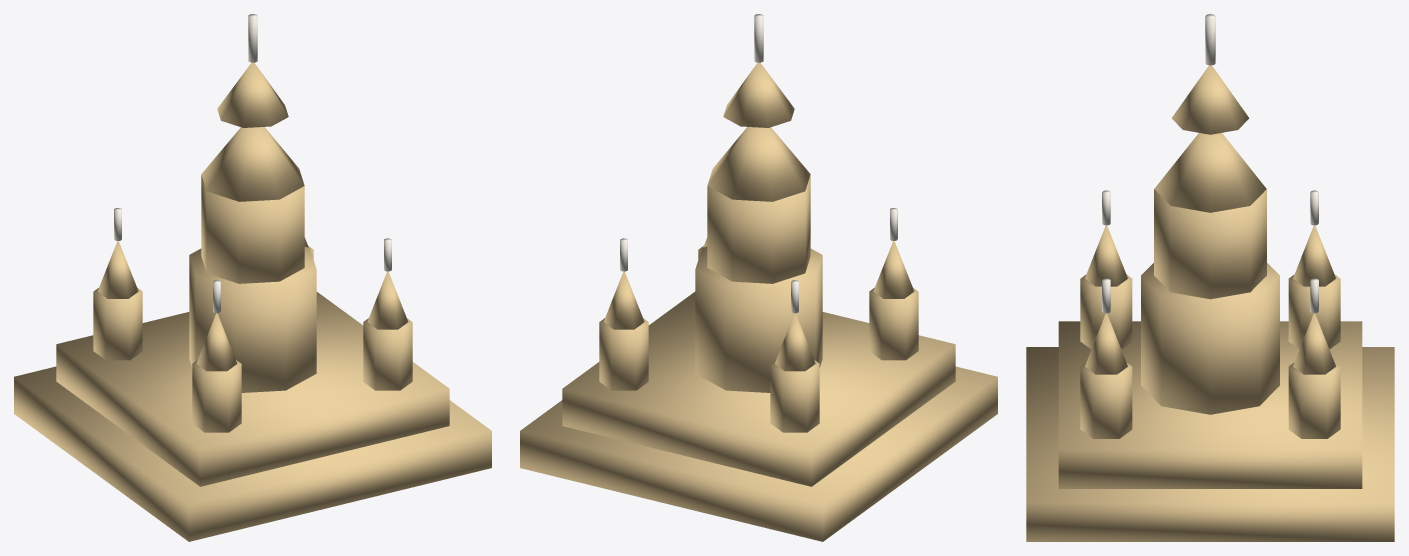
The model's file is wat_chaiwatthanaram.glb.
The picture shows the model from 3 angles, left to right: view 1: azimuth 30°, elevation 25°; view 2: azimuth 150°, elevation 25°; view 3: azimuth 270°, elevation 25°; orthographic projection. The views are drawn at different scales.
Parts seen in each view (by area): view 1: platform2, platform1, prang_base, prang_mid, prang_top1, chedi_b_2, chedi_b_0, chedi_b_1, prang_top2, chedi_t_0, chedi_t_1, chedi_t_2; view 2: platform2, platform1, prang_base, prang_mid, prang_top1, chedi_b_0, chedi_b_2, chedi_b_3, prang_top2, chedi_t_2, chedi_t_3, chedi_t_0; view 3: platform1, platform2, prang_base, prang_mid, prang_top1, chedi_b_1, chedi_b_3, prang_top2, chedi_b_0, chedi_b_2, chedi_t_1, chedi_t_3 (+3 smaller).
Part boxes in pixels (<box>): platform2: <box>56,292,449,486</box>; platform1: <box>14,366,491,541</box>; prang_base: <box>189,246,316,392</box>; prang_mid: <box>201,175,304,283</box>; prang_top1: <box>201,127,304,201</box>; chedi_b_2: <box>93,287,142,360</box>; chedi_b_0: <box>192,360,241,432</box>; chedi_b_1: <box>363,318,412,390</box>; prang_top2: <box>217,62,288,127</box>; chedi_t_0: <box>196,313,237,371</box>; chedi_t_1: <box>367,271,408,329</box>; chedi_t_2: <box>97,241,138,298</box>; platform2: <box>562,292,955,486</box>; platform1: <box>520,366,997,541</box>; prang_base: <box>695,246,822,392</box>; prang_mid: <box>707,175,810,283</box>; prang_top1: <box>707,127,810,201</box>; chedi_b_0: <box>869,287,918,360</box>; chedi_b_2: <box>770,360,819,432</box>; chedi_b_3: <box>599,318,648,390</box>; prang_top2: <box>723,62,794,127</box>; chedi_t_2: <box>774,313,815,371</box>; chedi_t_3: <box>603,271,644,329</box>; chedi_t_0: <box>873,241,914,298</box>; platform1: <box>1026,347,1394,541</box>; platform2: <box>1058,321,1362,488</box>; prang_base: <box>1141,263,1279,414</box>; prang_mid: <box>1154,189,1266,299</box>; prang_top1: <box>1154,133,1266,212</box>; chedi_b_1: <box>1080,362,1132,438</box>; chedi_b_3: <box>1288,362,1340,438</box>; prang_top2: <box>1171,65,1249,134</box>; chedi_b_0: <box>1080,274,1132,349</box>; chedi_b_2: <box>1288,274,1340,349</box>; chedi_t_1: <box>1085,313,1127,374</box>; chedi_t_3: <box>1293,313,1335,374</box>.
Bounding box in the file's own units: 0.85 × 1.14 × 0.85.
